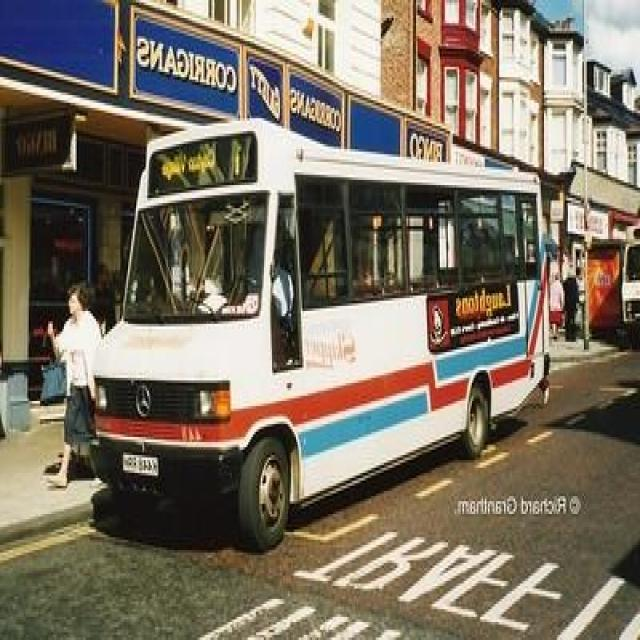Bus: (64, 78, 546, 540)
